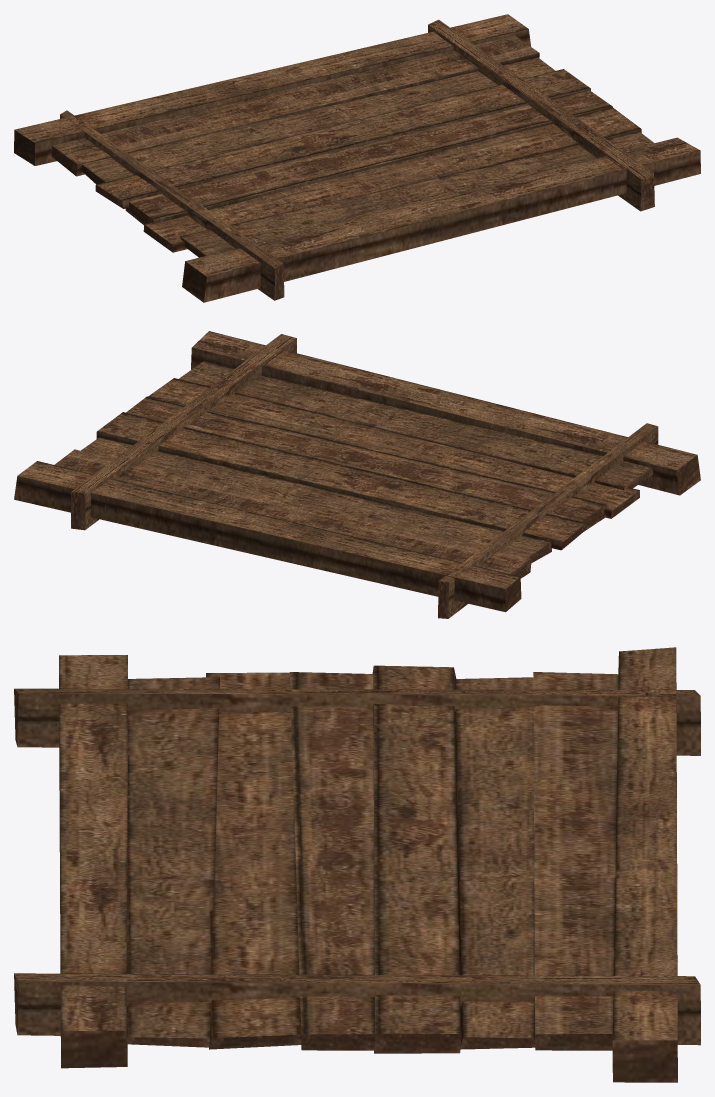
The model's file is o_PlateformWoodThin-transformed.glb.
The picture shows the model from 3 angles, top to bottom: view 1: azimuth 30°, elevation 25°; view 2: azimuth 150°, elevation 25°; view 3: azimuth 270°, elevation 25°; orthographic projection. The views are drawn at different scales.
Parts seen in each view (by area): view 1: default; view 2: default; view 3: default.
Part boxes in pixels (bbox=[...]): default: bbox=[14, 14, 700, 302]; default: bbox=[14, 331, 700, 618]; default: bbox=[14, 647, 700, 1082].
Bounding box in the file's own units: 6.03 × 0.4631 × 4.48.
1 material, 1 textured.
